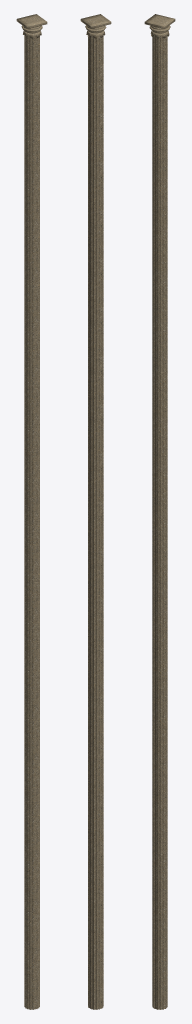
The model's file is columna.dae.
The picture shows the model from 3 angles, left to right: view 1: azimuth 30°, elevation 25°; view 2: azimuth 210°, elevation 25°; view 3: azimuth 330°, elevation 25°; orthographic projection.
Visible parts, largest first — view 1: Cylinder; view 2: Cylinder; view 3: Cylinder.
Part boxes in pixels (<box>): Cylinder: <box>16,14,47,1009</box>; Cylinder: <box>80,14,111,1009</box>; Cylinder: <box>144,14,175,1009</box>.
Bounding box in the file's own units: 21.55 × 20.19 × 1015.
Materials: 1 (1 with a texture image).
